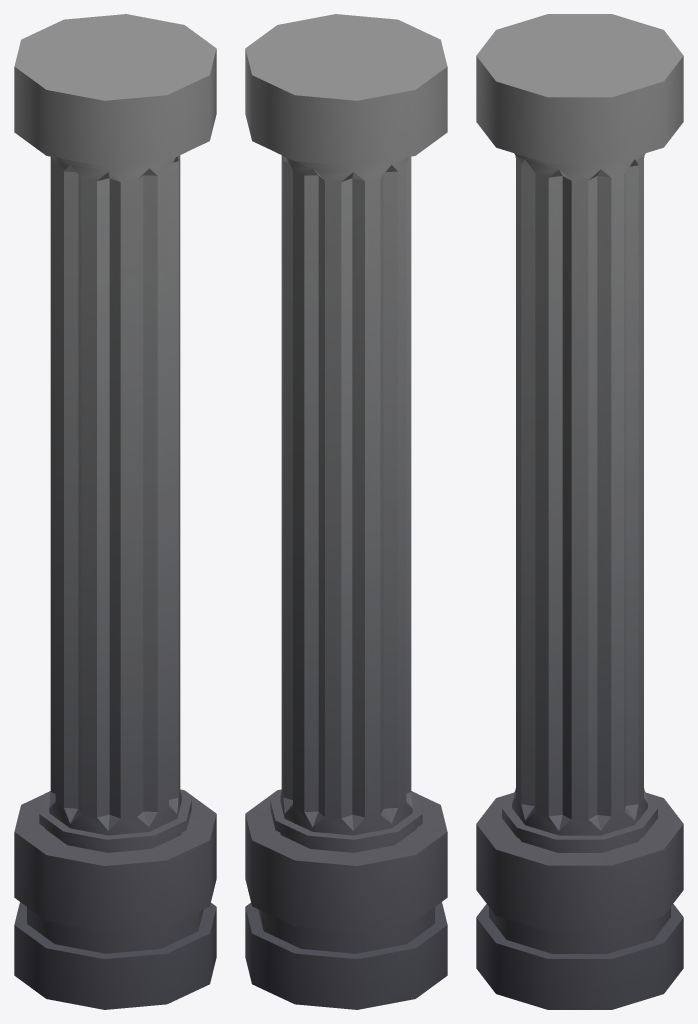
File: Pantheon_ColumnaBig_001.fbx
3 renders of one model, left to right at view 1: azimuth 30°, elevation 25°; view 2: azimuth 150°, elevation 25°; view 3: azimuth 270°, elevation 25°, orthographic.
Parts seen in each view (by area): view 1: Pantheon_ColumnaBig_001; view 2: Pantheon_ColumnaBig_001; view 3: Pantheon_ColumnaBig_001.
Part boxes in pixels (x1=…): Pantheon_ColumnaBig_001: x1=14, y1=14, x2=216, y2=1009; Pantheon_ColumnaBig_001: x1=245, y1=14, x2=447, y2=1009; Pantheon_ColumnaBig_001: x1=476, y1=14, x2=683, y2=1009.
Size of the model in its own units: 12.1 by 61.69 by 12.72.
